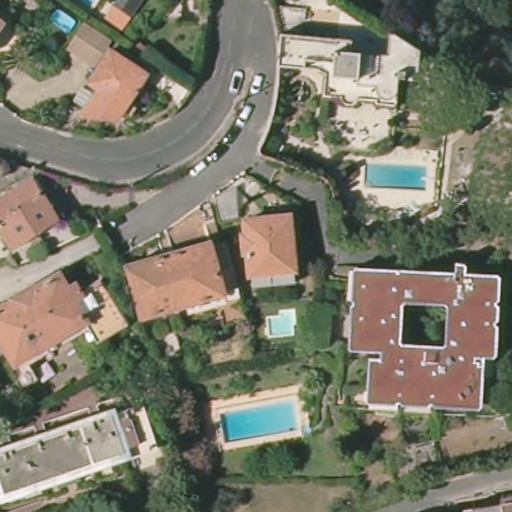pool: (217, 398, 305, 440), (358, 157, 431, 192), (260, 306, 301, 342), (47, 10, 75, 36)
